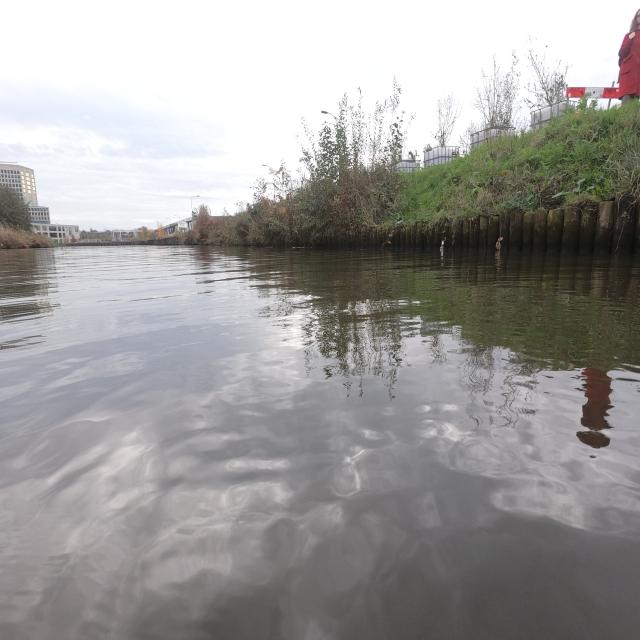grass: (401, 101, 640, 220)
reed: (232, 81, 408, 244), (1, 221, 52, 248)
water: (1, 242, 639, 638)
